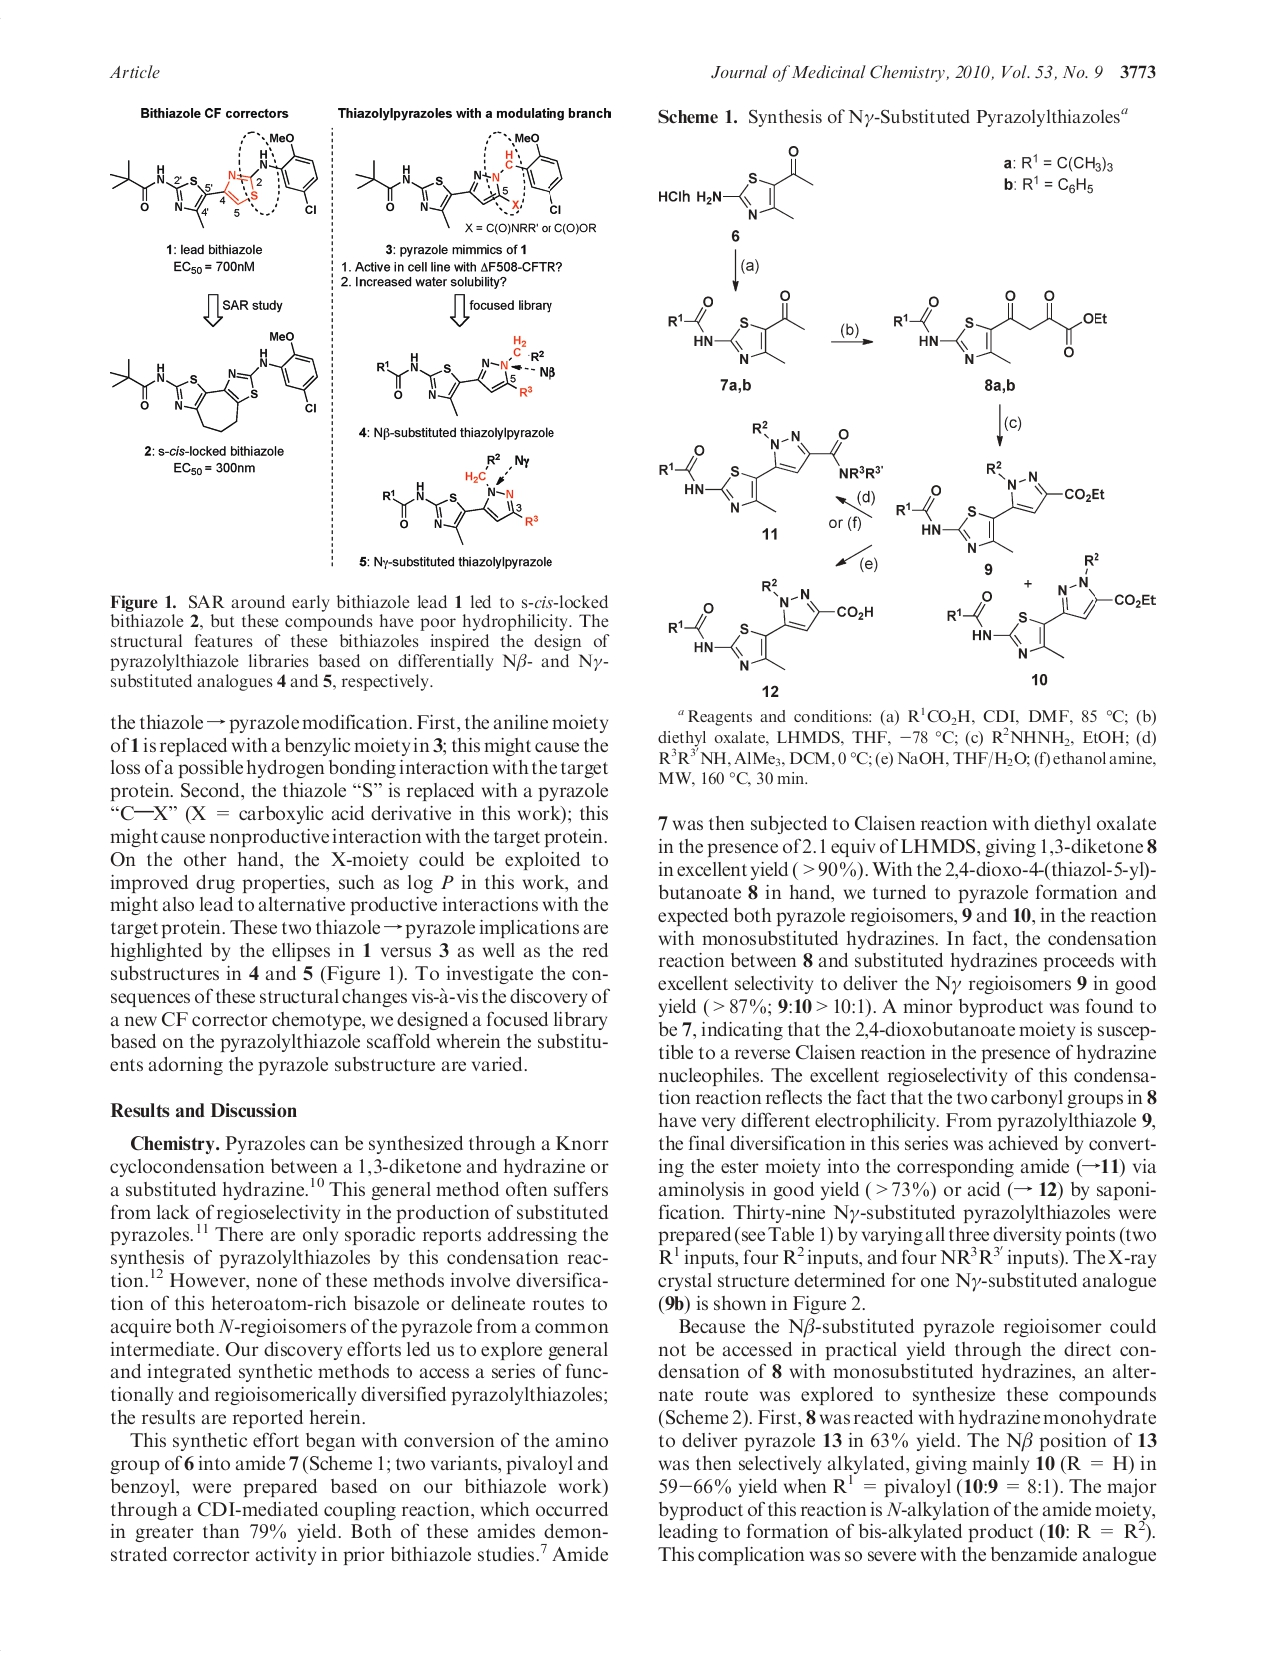exist_molecular: (944, 551, 1160, 664), (352, 125, 567, 233), (656, 419, 886, 516), (895, 453, 1110, 556), (110, 330, 320, 434), (109, 130, 320, 233), (665, 578, 876, 677), (892, 281, 1116, 367), (374, 330, 564, 419), (382, 447, 537, 547), (656, 142, 821, 226), (665, 289, 809, 364)
